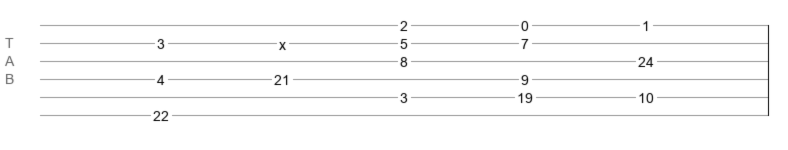0: (521, 18, 529, 28)
1: (642, 18, 650, 28)
10: (638, 90, 654, 100)
19: (517, 90, 533, 100)
2: (400, 18, 408, 28)
21: (274, 72, 290, 82)
22: (153, 108, 169, 118)
24: (638, 54, 654, 64)
3: (157, 36, 165, 46), (400, 90, 408, 100)
4: (157, 72, 165, 82)
5: (400, 36, 408, 46)
7: (521, 36, 529, 46)
8: (400, 54, 408, 64)
9: (521, 72, 529, 82)
x: (279, 37, 286, 45)
